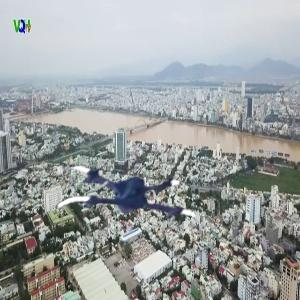drone: (56, 140, 194, 278)
